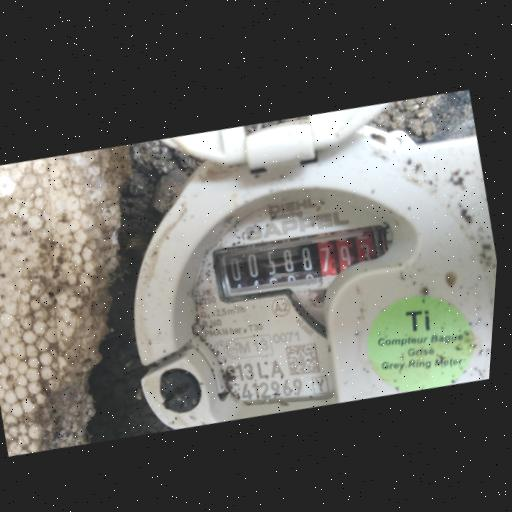0: (222, 252, 249, 291), (242, 249, 267, 288)
3: (353, 230, 378, 263)
5: (261, 248, 284, 285)
7: (314, 239, 340, 279)
8: (278, 245, 303, 283), (296, 243, 320, 281)
9: (333, 235, 358, 274)
border_water_meter_number: (211, 215, 390, 311)
